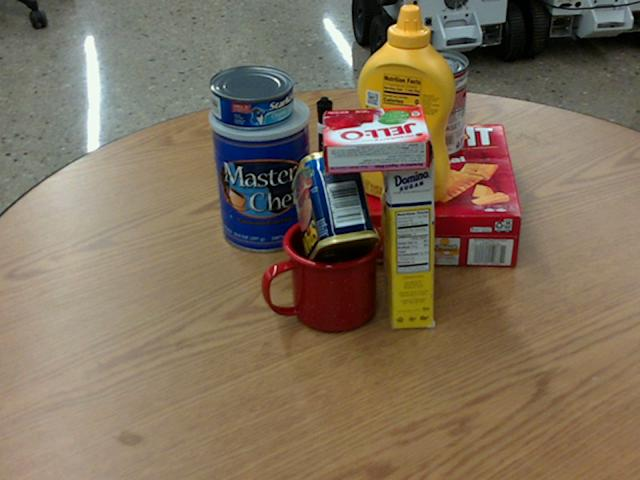cracker_box: (359, 123, 519, 266)
gelatin_box: (321, 104, 431, 172)
large_marker: (315, 98, 333, 198)
master_chef_can: (209, 90, 314, 250)
mug: (258, 214, 379, 333)
mustard_bottle: (355, 5, 455, 202)
potted_meat_can: (291, 149, 379, 270)
sugar_box: (378, 117, 432, 330)
tomato_soup_can: (404, 49, 467, 157)
tuna_fish_can: (208, 64, 293, 127)
